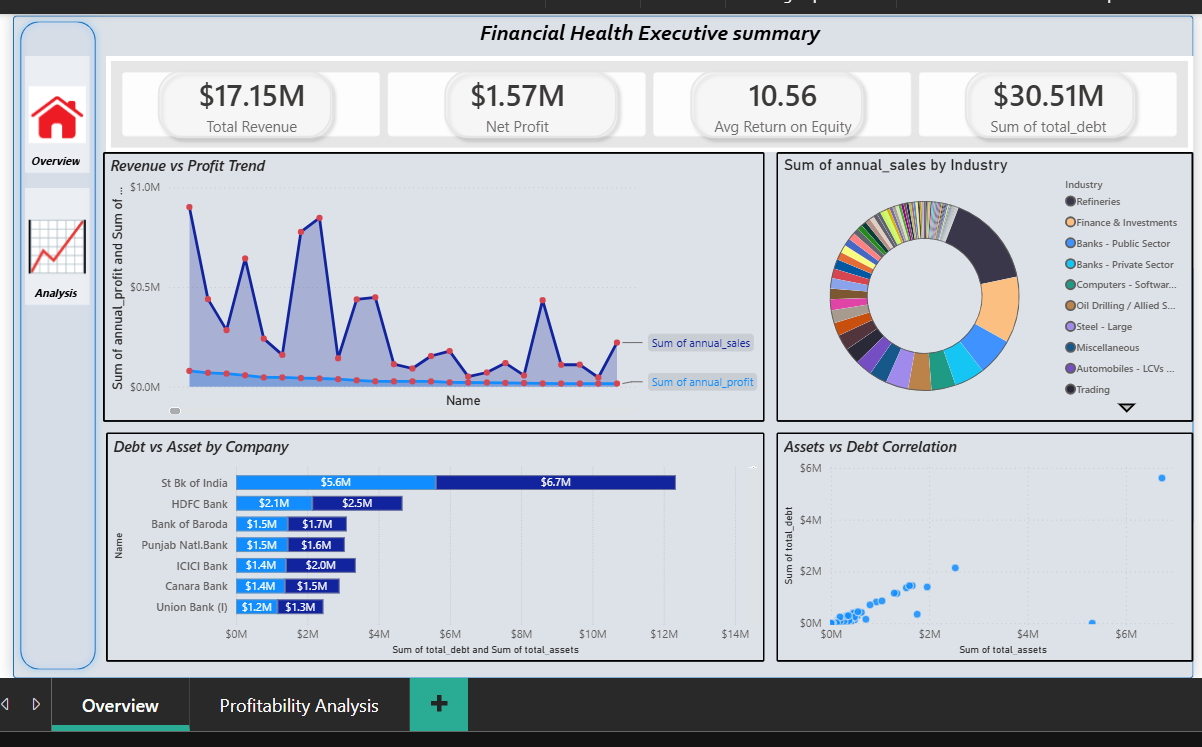

The dashboard page shown, as its layout file describes it:
{"tool":"powerbi","page":{"name":"Overview","canvas":[1280,720],"ordinal":0},"visuals":[{"type":"shape","box":[0,1.6,1280.1,718.9],"z":0},{"type":"shape","box":[0,0,97.6,718.9],"z":1000},{"type":"textbox","box":[100.8,0,1179.2,45.5],"z":2000},{"type":"cardVisual","fields":{"Data":["Sum(public dashboard_master.annual_sales)","Sum(public dashboard_master.annual_profit)","Avg(public dashboard_master.roe)","Sum(public dashboard_master.total_debt)"]},"box":[100.8,45.5,1179.2,104.1],"z":3000},{"type":"shape","box":[1023.1,52,201.7,91.1],"z":4000},{"type":"shape","box":[725.4,52,204.9,91.1],"z":5000},{"type":"shape","box":[148,52,206.6,91.1],"z":6000},{"type":"shape","box":[458.7,52,204.9,91.1],"z":7000},{"type":"lineChart","title":"Revenue vs Profit Trend","fields":{"Category":["public dashboard_master.Name"],"Y":["Sum(public dashboard_master.annual_profit)","Sum(public dashboard_master.annual_sales)"]},"box":[97.6,149.6,717.3,292.8],"z":8000},{"type":"donutChart","fields":{"Category":["public dashboard_master.Industry"],"Y":["Sum(public dashboard_master.annual_sales)"]},"box":[827.9,149.6,452.2,292.8],"z":9000},{"type":"barChart","title":"Debt vs Asset by Company","fields":{"Category":["public dashboard_master.Name"],"Y":["Sum(public dashboard_master.total_debt)","Sum(public dashboard_master.total_assets)"]},"box":[100.8,453.8,714.1,248.9],"z":10000},{"type":"scatterChart","title":"Assets vs Debt Correlation","fields":{"X":["Sum(public dashboard_master.total_assets)"],"Y":["Sum(public dashboard_master.total_debt)"],"Category":["public dashboard_master.Name"]},"box":[827.9,453.8,452.2,248.9],"z":11000},{"type":"actionButton","box":[13,45.5,69.9,126.9],"z":12000},{"type":"actionButton","box":[13,188.7,69.9,126.9],"z":13000}]}

Visuals, with their boxes in screenshot pixels (x1, y1, x2, y2):
shape: (left=6, top=11, right=1192, bottom=677)
shape: (left=6, top=9, right=97, bottom=675)
textbox: (left=100, top=9, right=1192, bottom=52)
cardVisual - Sum(public dashboard_master.annual_sales) x Sum(public dashboard_master.annual_profit): (left=100, top=52, right=1192, bottom=148)
shape: (left=954, top=58, right=1141, bottom=142)
shape: (left=678, top=58, right=868, bottom=142)
shape: (left=143, top=58, right=335, bottom=142)
shape: (left=431, top=58, right=621, bottom=142)
"Revenue vs Profit Trend" lineChart: (left=97, top=148, right=761, bottom=419)
donutChart - public dashboard_master.Industry x Sum(public dashboard_master.annual_sales): (left=773, top=148, right=1192, bottom=419)
"Debt vs Asset by Company" barChart: (left=100, top=430, right=761, bottom=660)
"Assets vs Debt Correlation" scatterChart: (left=773, top=430, right=1192, bottom=660)
actionButton: (left=18, top=52, right=83, bottom=169)
actionButton: (left=18, top=184, right=83, bottom=302)
